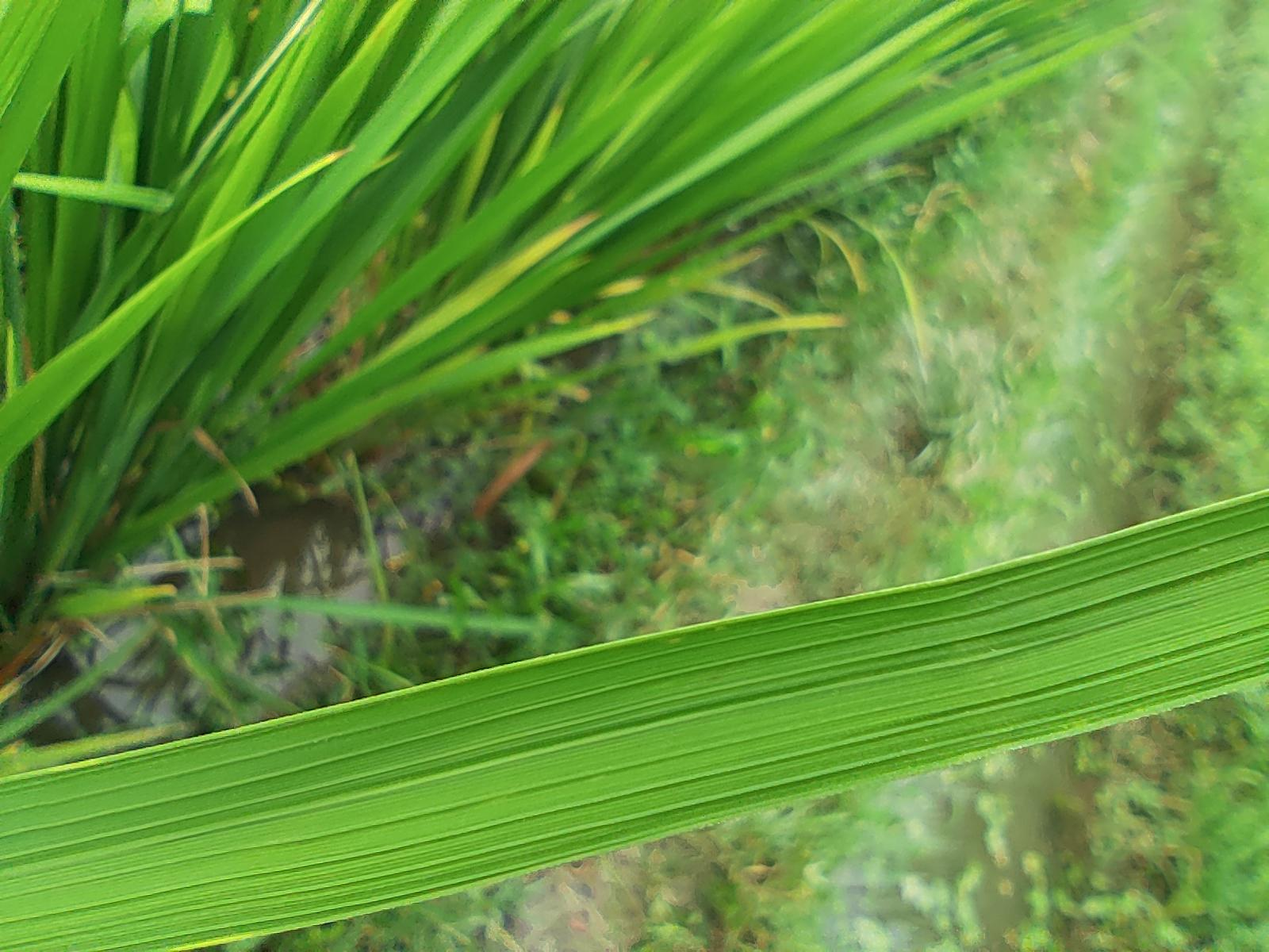Healthy: (656, 1, 1268, 951)
